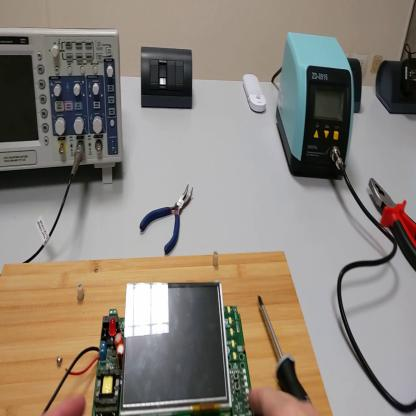hand: (249, 385, 319, 415), (45, 396, 90, 416)
low voltage board: (42, 283, 254, 416)
oscilloscope: (2, 26, 125, 187)
pliers: (369, 176, 416, 271), (140, 185, 194, 255)
screwdriver-: (259, 295, 311, 403)
socket: (376, 59, 416, 119), (347, 58, 364, 115)
welder station: (278, 31, 356, 185)
working area: (2, 251, 334, 414)
